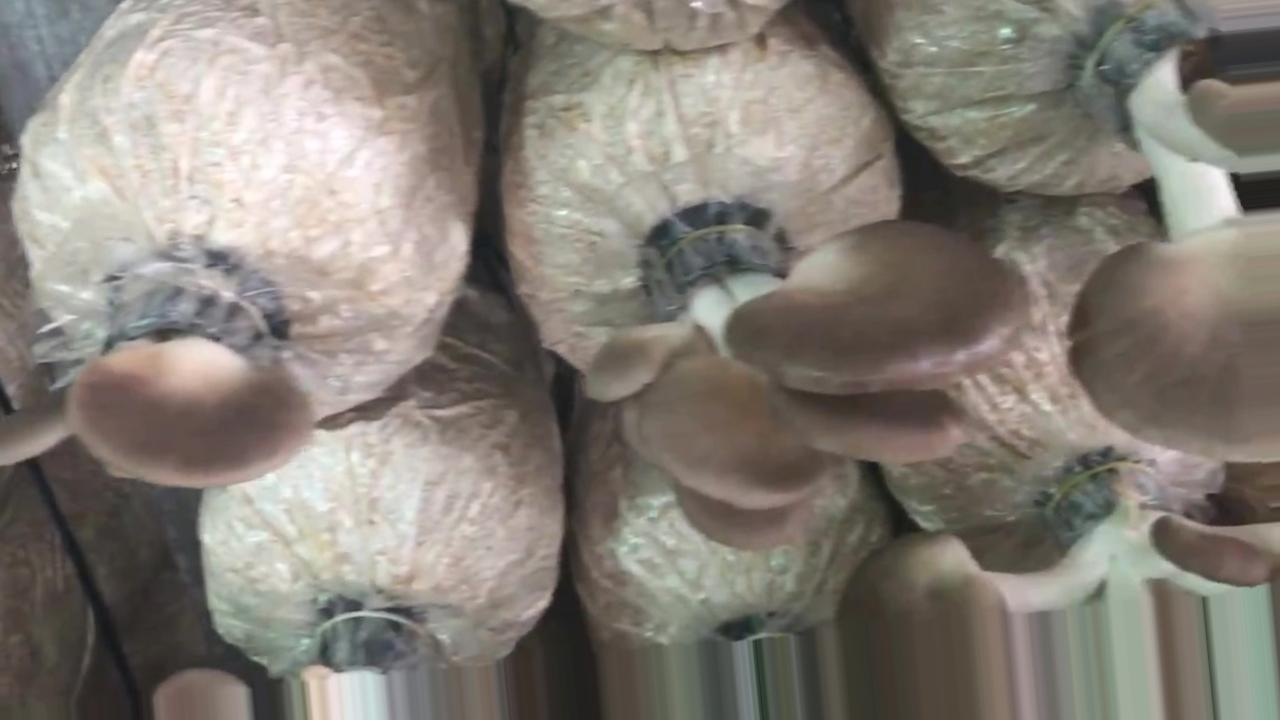nam: (573, 213, 1031, 550), (1066, 2, 1275, 466), (831, 456, 1280, 615), (71, 262, 320, 492)
